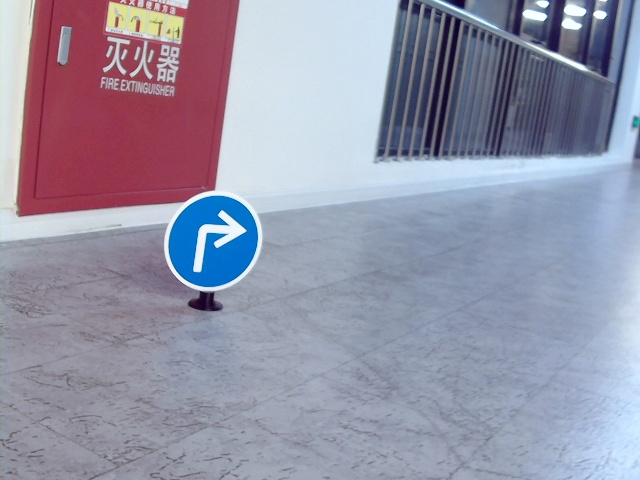turn_right: (189, 212, 246, 274)
